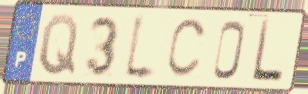0: (212, 19, 247, 81)
3: (84, 15, 122, 78)
C: (164, 16, 209, 81)
L: (121, 11, 159, 85), (249, 18, 285, 84)
Q: (37, 12, 80, 78)
